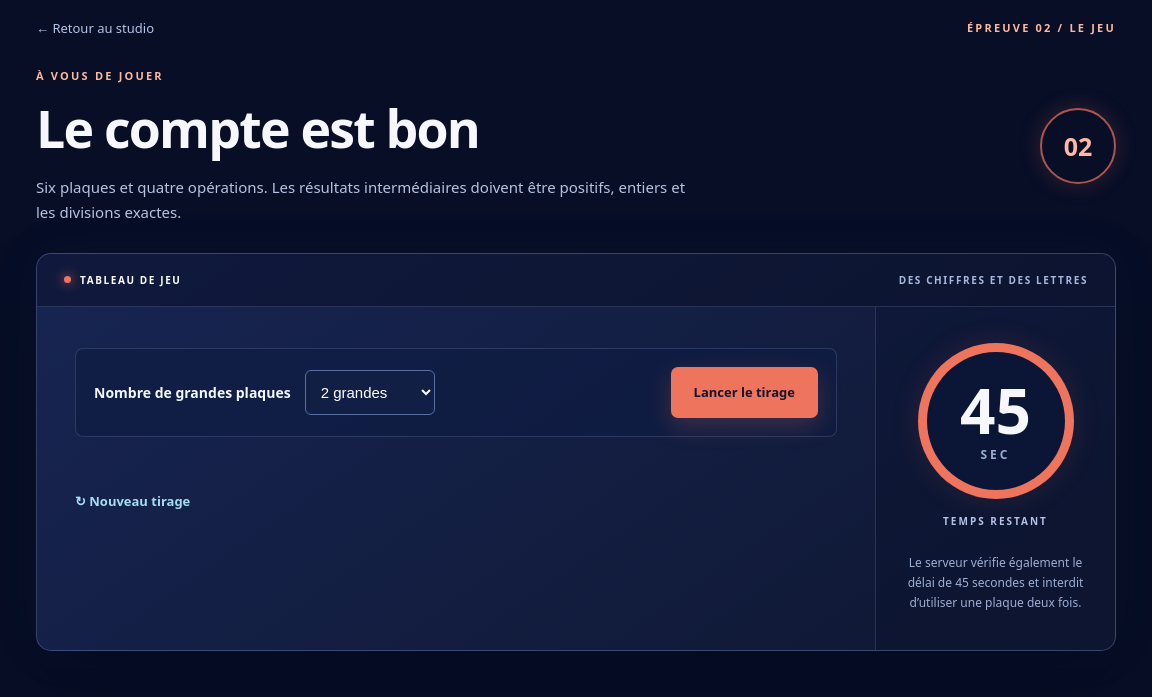
Test: builds a valid operation and can undo it
Click the button "Lancer le tirage": [744, 392] box [671,367,818,418]
(page scrolled)
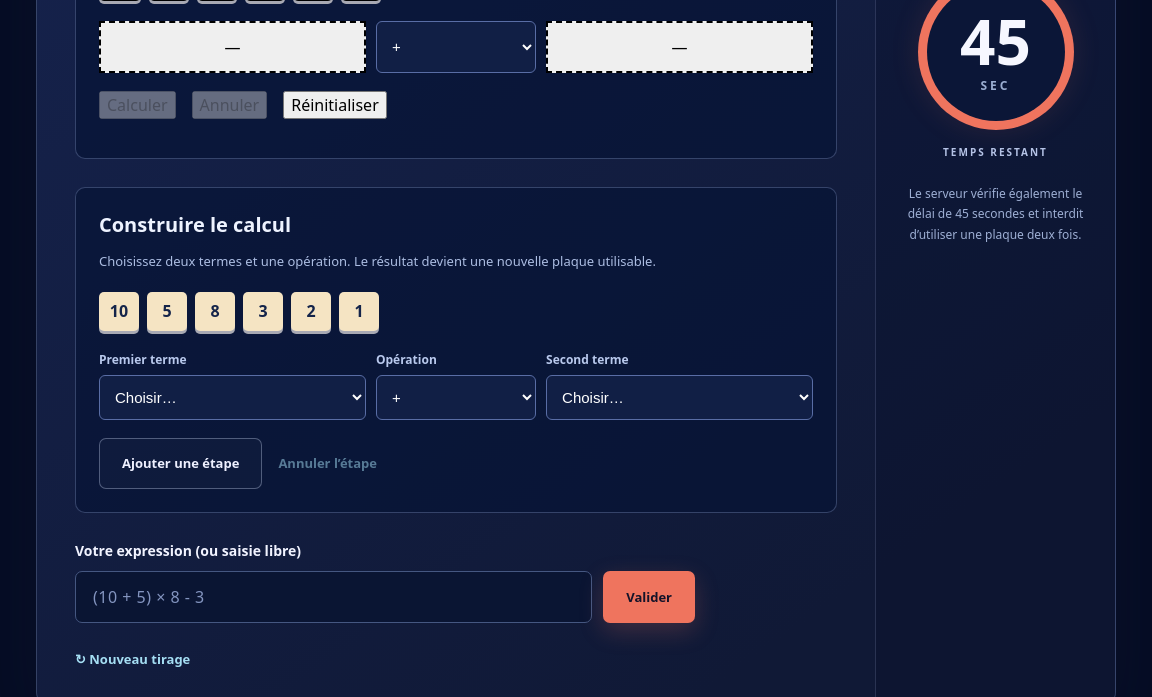
Expected: the field labelled "Votre expression (ou saisie libre)" is shown, [75,571,592,623]
Select "10" in the dropdown labelled "Premier terme": [232, 397] box [99,375,366,420]
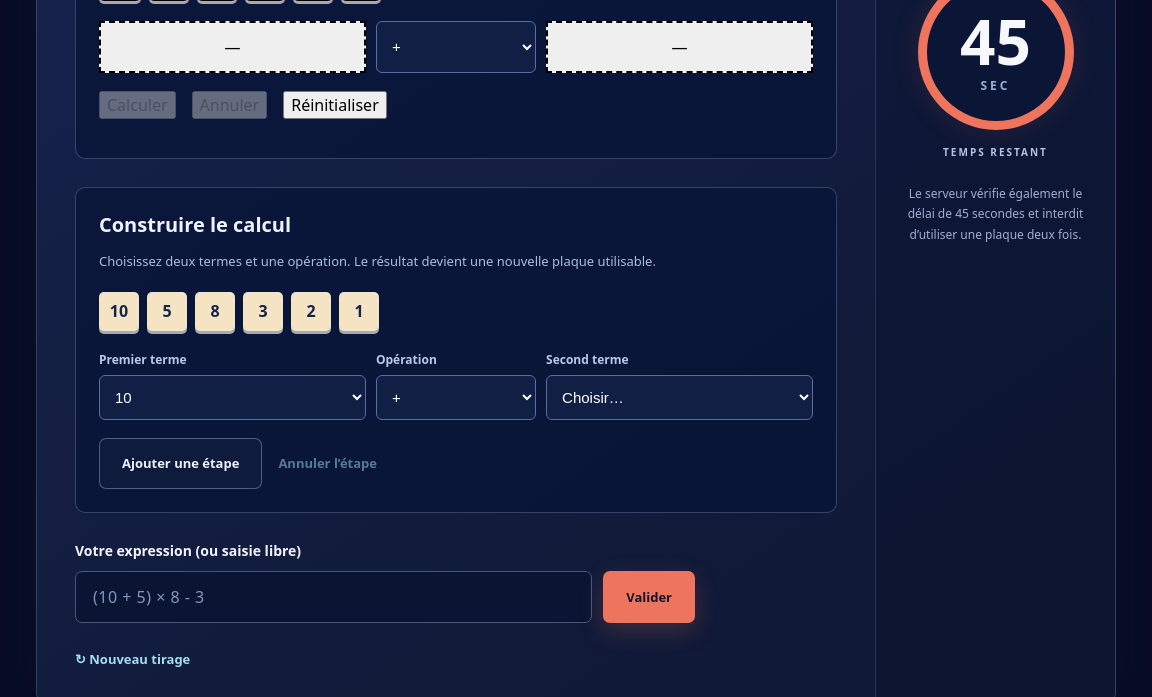
Select "5" in the dropdown labelled "Second terme": [680, 397] box [546,375,813,420]
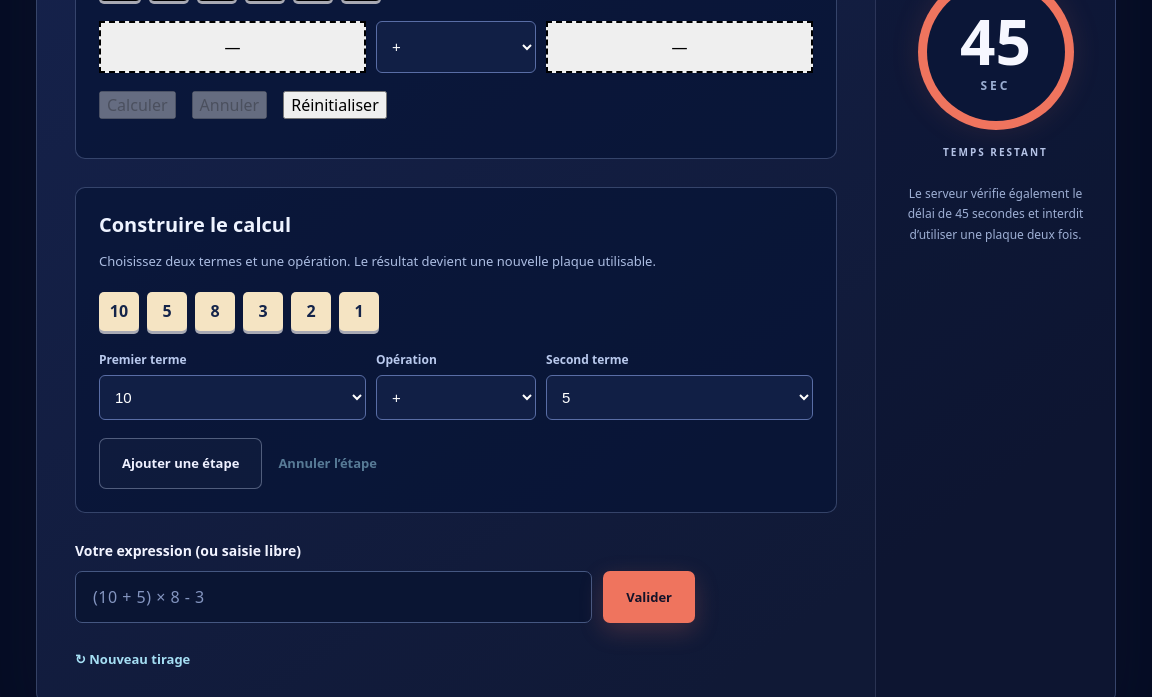
Click the button "Ajouter une étape": [181, 463] box [99,438,262,489]
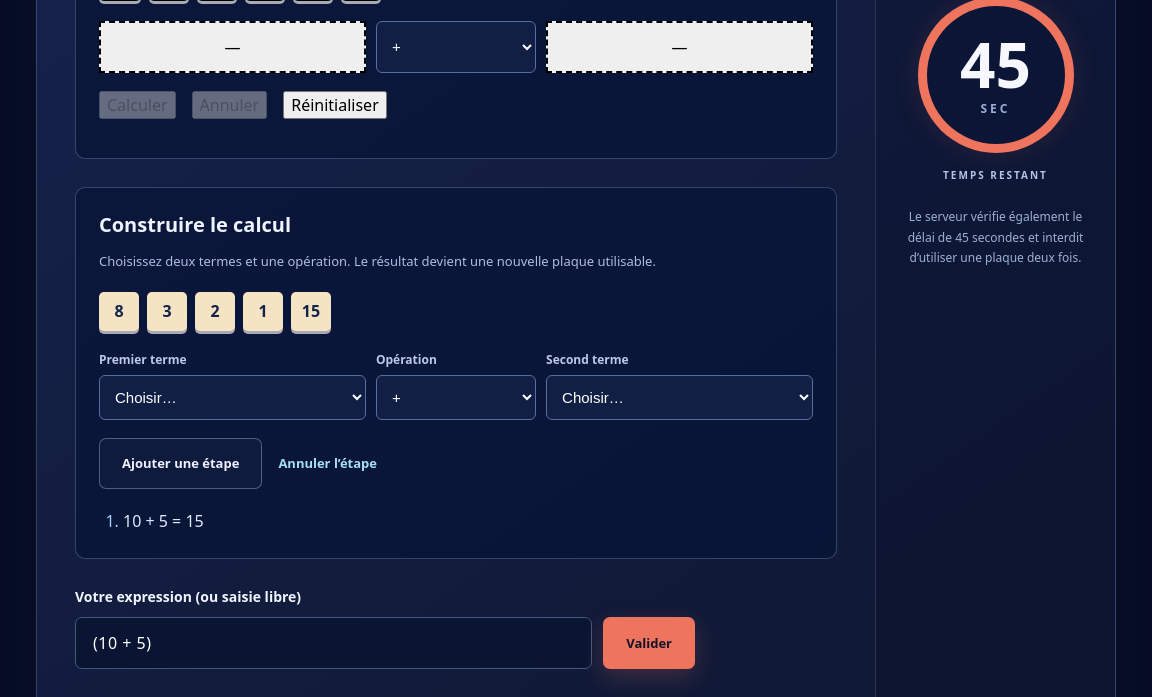
Expected: the list item "10 + 5 = 15" is shown, [123,510,204,532]
Expected: the field labelled "Votre expression (ou saisie libre)" holds "(10 + 5)", [75,617,592,669]
Click the button "Annuler l’étape": [328, 463] box [278,454,377,472]
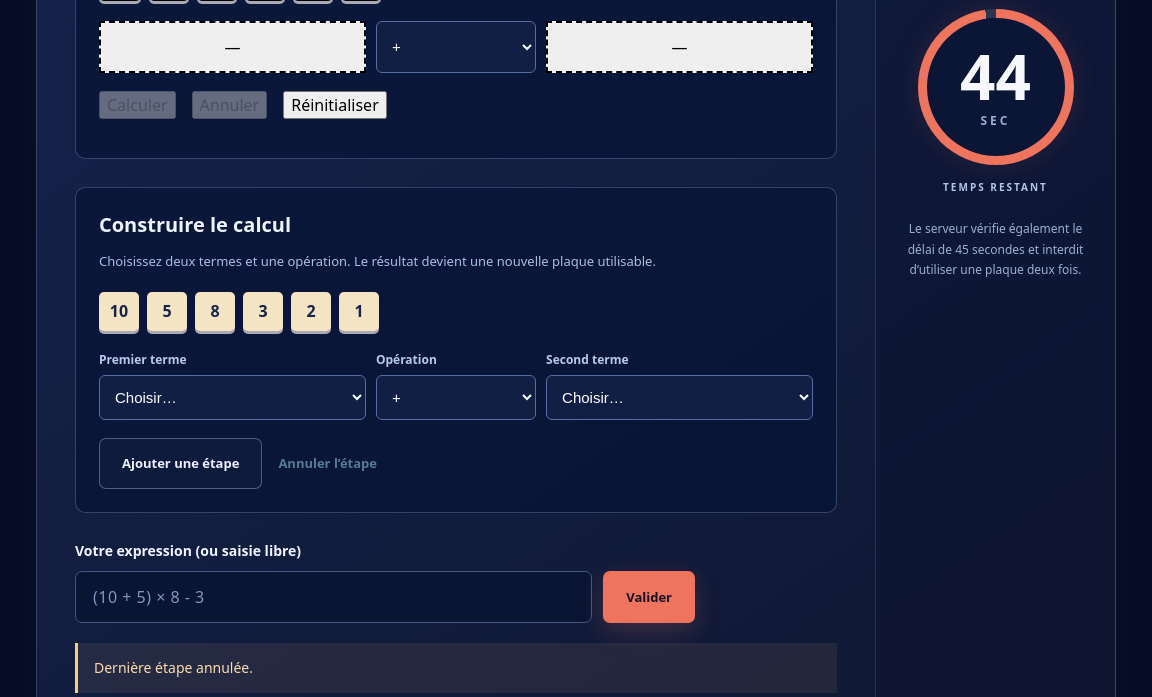
Expected: the list item "10 + 5 = 15" is gone
